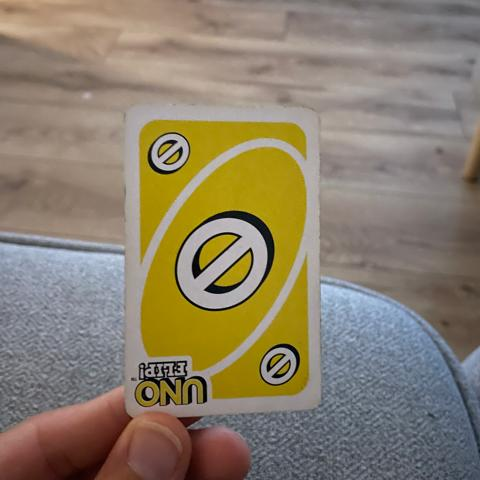reverse_yellow: (164, 210, 286, 311), (249, 337, 305, 391), (142, 127, 201, 174)
